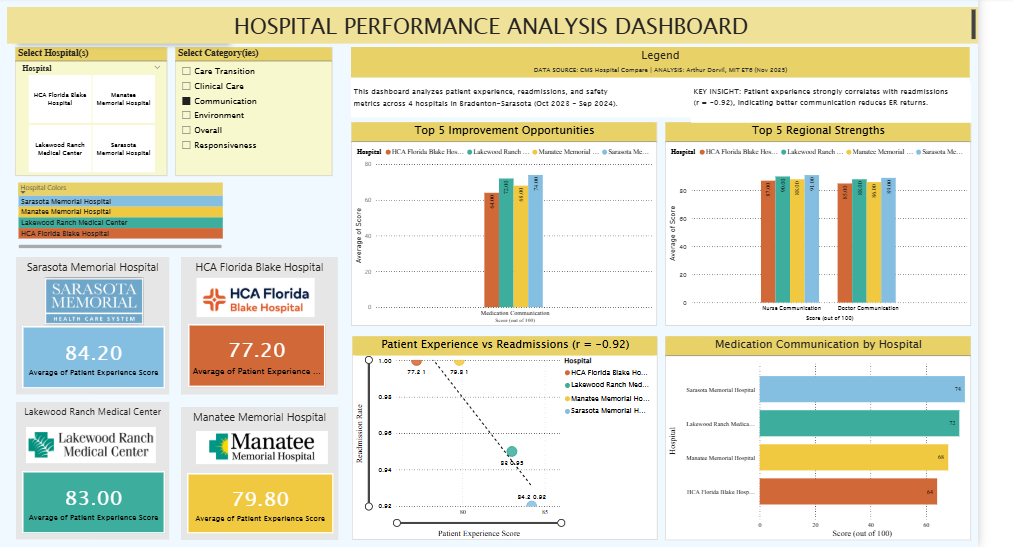

The dashboard page shown, as its layout file describes it:
{"tool":"powerbi","page":{"name":"Page 1","canvas":[1920,1080],"ordinal":0},"visuals":[{"type":"group","id":"g1","title":"Group 1","box":[356,510.3,308,270.4],"z":0,"group":"g3"},{"type":"clusteredBarChart","title":"Medication Communication by Hospital","fields":{"Category":["hospital_measures_detailed.Hospital"],"Y":["Sum(hospital_measures_detailed.Score)"]},"box":[1304.8,665.3,600.8,400.9],"z":0},{"type":"textbox","box":[31.3,795.3,301.3,270],"z":0,"group":"g5"},{"type":"textbox","box":[356,510.3,308,270.4],"z":500,"group":"g1"},{"type":"textbox","box":[31.3,510.5,301.3,270],"z":500,"group":"g2"},{"type":"textbox","box":[355.7,804.5,308.7,260.8],"z":500,"group":"g4"},{"type":"clusteredColumnChart","title":"Top 5 Regional Strengths","fields":{"Category":["hospital_measures_detailed.Measure_Name"],"Y":["Avg(hospital_measures_detailed.Score)"],"Series":["hospital_measures_detailed.Hospital"]},"box":[1304.8,246,600.8,399.9],"z":1000},{"type":"card","title":"Sarasota Memorial Hospital","fields":{"Values":["Avg(hospital_summary.Patient_Experience_Score)"]},"box":[43.7,930.3,281.1,123.5],"z":1000,"group":"g5"},{"type":"card","title":"Sarasota Memorial Hospital","fields":{"Values":["Avg(hospital_summary.Patient_Experience_Score)"]},"box":[43.7,645.5,281.1,123.5],"z":1500,"group":"g2"},{"type":"card","title":"Sarasota Memorial Hospital","fields":{"Values":["Avg(hospital_summary.Patient_Experience_Score)"]},"box":[368.4,934.9,287.9,119.3],"z":1500,"group":"g4"},{"type":"clusteredColumnChart","title":"Top 5 Improvement Opportunities","fields":{"Category":["hospital_measures_detailed.Measure_Name"],"Y":["Avg(hospital_measures_detailed.Score)"],"Series":["hospital_measures_detailed.Hospital"]},"box":[690.2,246,600.8,399.9],"z":2000},{"type":"card","title":"HCA Florida Blake Hospital","fields":{"Values":["Avg(hospital_summary.Patient_Experience_Score)"]},"box":[370,641.6,270.3,123.7],"z":3000,"group":"g3"},{"type":"scatterChart","title":"Patient Experience vs Readmissions (r = -0.92)","fields":{"X":["hospital_summary.Patient_Experience_Score"],"Y":["hospital_summary.Readmission_Rate"],"Series":["hospital_summary.Hospital"]},"box":[691.1,665.3,599.9,399.9],"z":3000},{"type":"slicer","title":"Select Hospital(s)","fields":{"Values":["hospital_summary.Hospital"]},"box":[29.5,98.6,299.5,253.4],"z":4000},{"type":"slicer","title":"Select Category(ies)","fields":{"Values":["hospital_measures_detailed.Measure_Category"]},"box":[342.8,98.6,308.7,253.4],"z":5000},{"type":"textbox","box":[29.5,47,412.8,37.8],"z":6000},{"type":"textbox","box":[13.8,20.3,1906.6,71.9],"z":7000},{"type":"group","id":"g2","title":"Group 1","box":[31.3,510.5,301.3,270],"z":8000},{"type":"group","id":"g3","title":"Group 2","box":[356,458,308,323],"z":9000},{"type":"group","id":"g4","title":"Group 3","box":[355.7,804.5,308.7,260.8],"z":10000},{"type":"textbox","title":"Legend","box":[690.2,98.6,1215.5,138.2],"z":11000},{"type":"group","id":"g5","title":"Group 4","box":[31.3,795.3,301.3,270],"z":12000},{"type":"image","box":[51.6,844.1,255.3,71],"z":12000,"group":"g5"},{"type":"tableEx","fields":{"Values":["hospital_summary.Hospital"]},"box":[29,360,413,140],"z":13000},{"type":"image","box":[381.9,458,241.8,265.8],"z":13000,"group":"g3"},{"type":"image","box":[81.5,521.1,205.5,154.8],"z":13000,"group":"g2"},{"type":"image","box":[384.3,851.5,258.9,64.5],"z":13003,"group":"g4"},{"type":"textbox","box":[1356,168,550,78],"z":14001}]}

Visuals, with their boxes on the page's 1920x1080 design canvas (x1, y1, x2, y2). These are canvas units, not pixel positions in the 1013x547 screenshot, which may show the page scaled, cropped or inside an application window:
"Group 1" group: 356, 510, 664, 781
"Medication Communication by Hospital" clusteredBarChart: 1305, 665, 1906, 1066
textbox: 31, 795, 333, 1065
textbox: 356, 510, 664, 781
textbox: 31, 510, 333, 780
textbox: 356, 804, 664, 1065
"Top 5 Regional Strengths" clusteredColumnChart: 1305, 246, 1906, 646
"Sarasota Memorial Hospital" card: 44, 930, 325, 1054
"Sarasota Memorial Hospital" card: 44, 646, 325, 769
"Sarasota Memorial Hospital" card: 368, 935, 656, 1054
"Top 5 Improvement Opportunities" clusteredColumnChart: 690, 246, 1291, 646
"HCA Florida Blake Hospital" card: 370, 642, 640, 765
"Patient Experience vs Readmissions (r = -0.92)" scatterChart: 691, 665, 1291, 1065
"Select Hospital(s)" slicer: 30, 99, 329, 352
"Select Category(ies)" slicer: 343, 99, 652, 352
textbox: 30, 47, 442, 85
textbox: 14, 20, 1920, 92
"Group 1" group: 31, 510, 333, 780
"Group 2" group: 356, 458, 664, 781
"Group 3" group: 356, 804, 664, 1065
"Legend" textbox: 690, 99, 1906, 237
"Group 4" group: 31, 795, 333, 1065
image: 52, 844, 307, 915
tableEx - hospital_summary.Hospital: 29, 360, 442, 500
image: 382, 458, 624, 724
image: 82, 521, 287, 676
image: 384, 852, 643, 916
textbox: 1356, 168, 1906, 246
